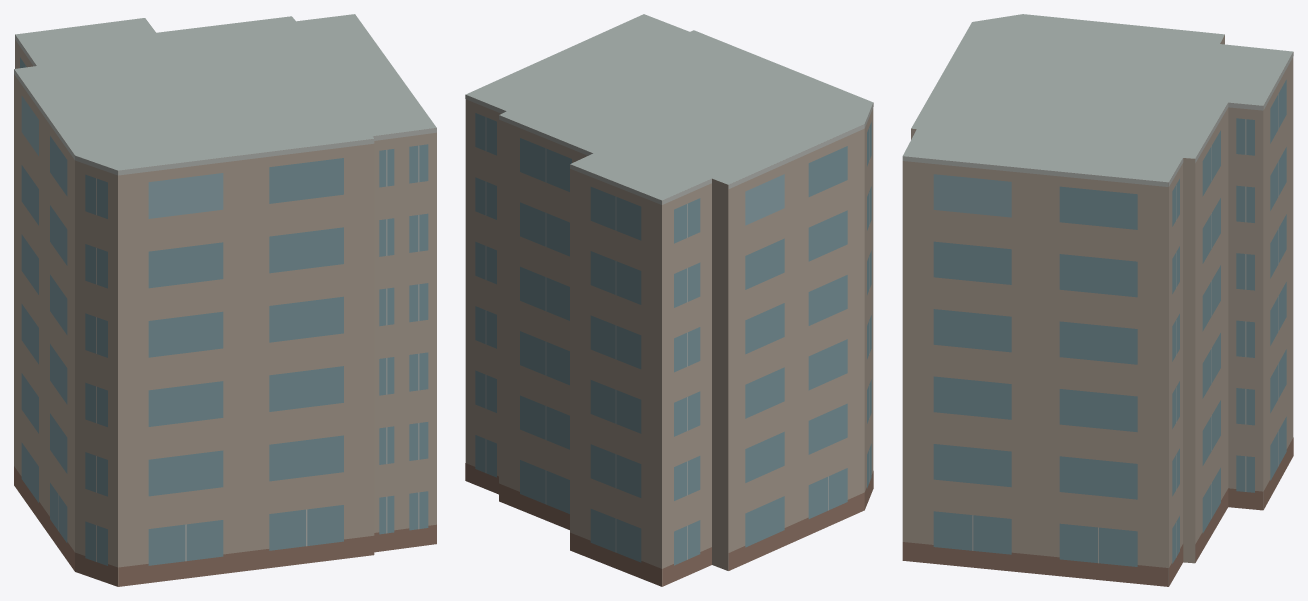
The model's file is survey-upis-33001814.glb.
3 renders of one model, left to right at view 1: azimuth 30°, elevation 25°; view 2: azimuth 150°, elevation 25°; view 3: azimuth 270°, elevation 25°, orthographic. The views are drawn at different scales.
Parts seen in each view (by area): view 1: survey-upis-33001814.tmp; view 2: survey-upis-33001814.tmp; view 3: survey-upis-33001814.tmp.
Boxes of the visible parts, x1=… form: survey-upis-33001814.tmp: x1=14, y1=14, x2=436, y2=586; survey-upis-33001814.tmp: x1=465, y1=14, x2=873, y2=586; survey-upis-33001814.tmp: x1=902, y1=14, x2=1293, y2=586.
Size of the model in its own units: 18.49 by 20.7 by 18.14.
